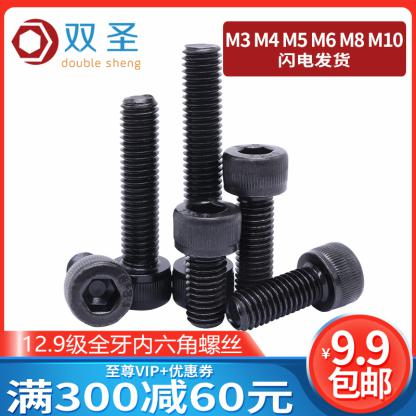FOD: (170, 43, 235, 312), (104, 90, 173, 313), (224, 241, 366, 334), (222, 142, 290, 298), (171, 198, 244, 328), (62, 250, 133, 328)
